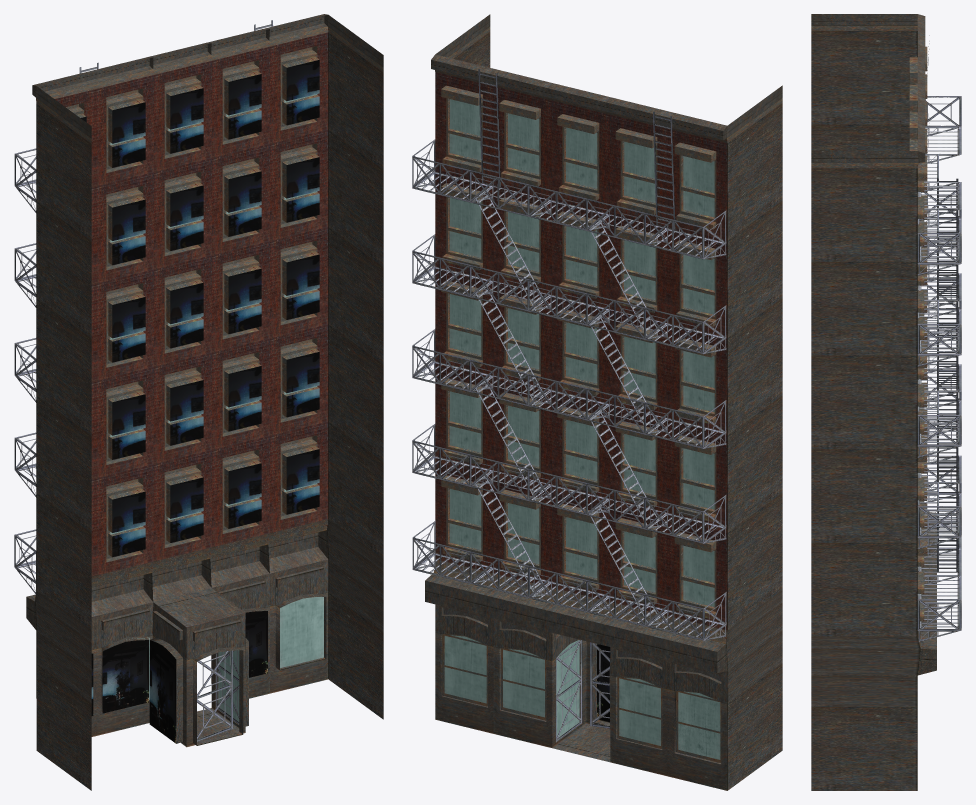
The model's file is Building_05.fbx.
3 renders of one model, left to right at view 1: azimuth 30°, elevation 25°; view 2: azimuth 150°, elevation 25°; view 3: azimuth 270°, elevation 25°, orthographic. The views are drawn at different scales.
Parts seen in each view (by area): view 1: Building_05; view 2: Building_05; view 3: Building_05.
Part boxes in pixels (x1=…): Building_05: x1=14, y1=14, x2=383, y2=790; Building_05: x1=412, y1=14, x2=782, y2=790; Building_05: x1=811, y1=14, x2=961, y2=790.
Bounding box in the file's own units: 897 × 1958 × 415.
